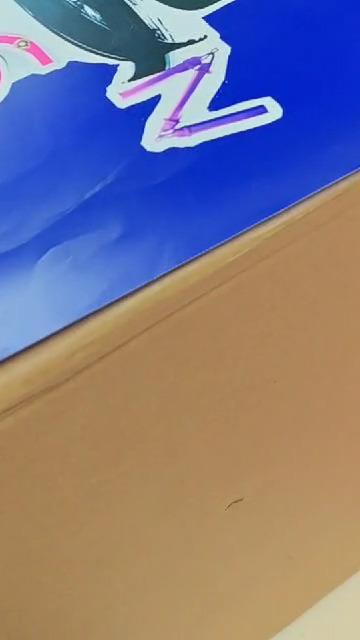B_R1: (0, 0, 302, 165)
